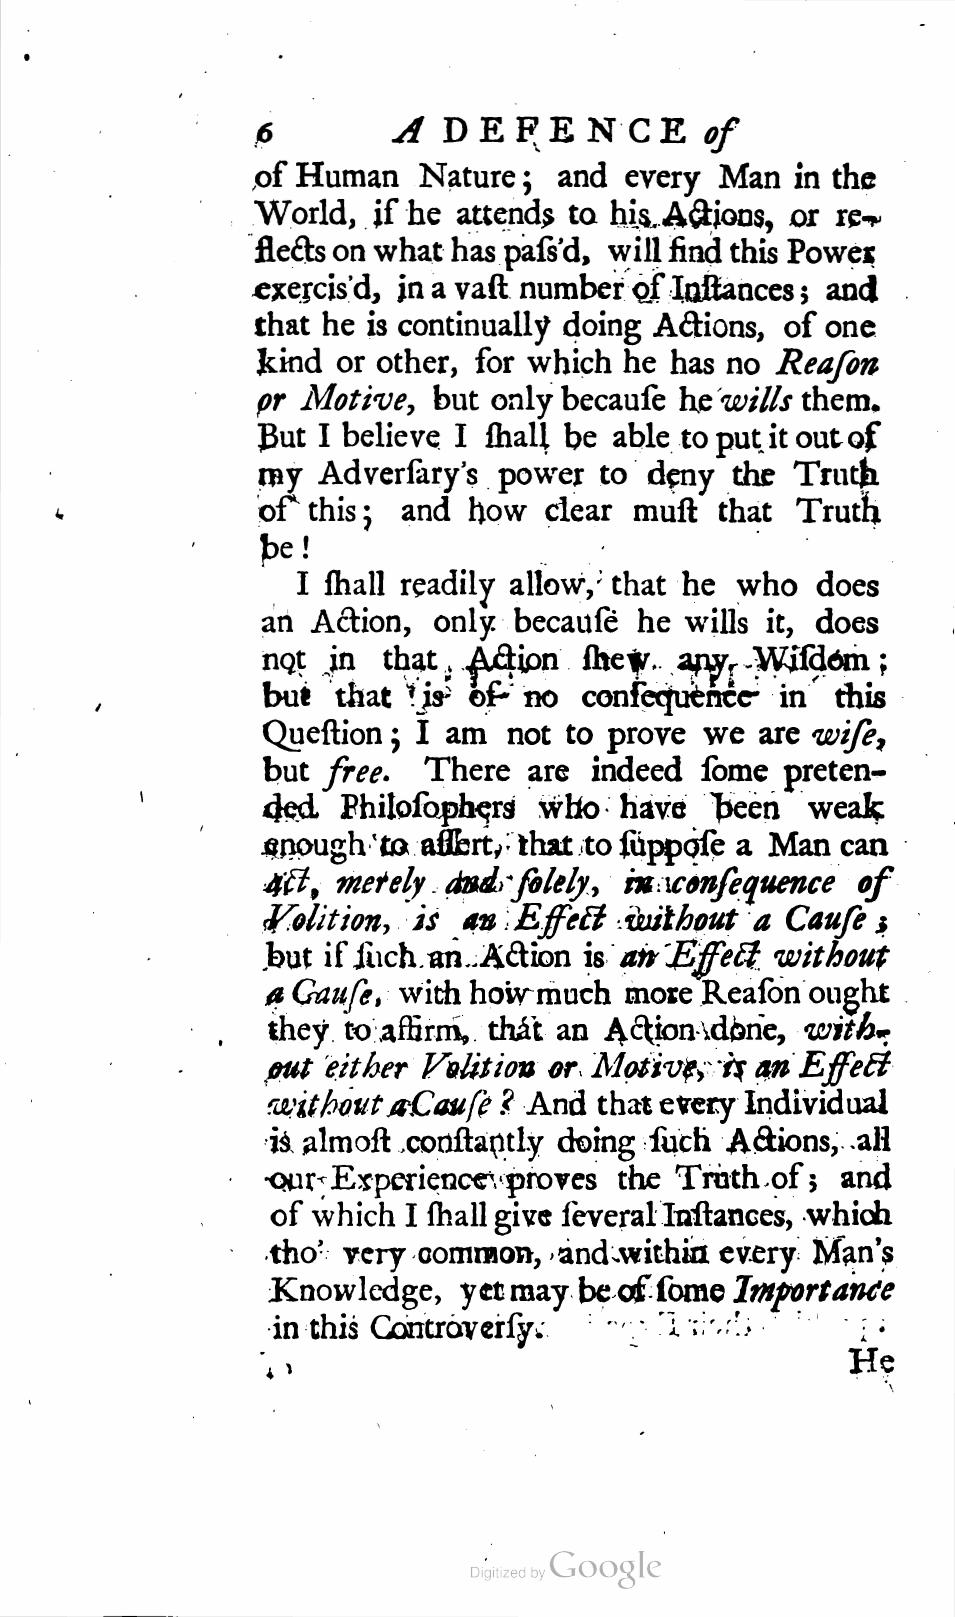bottom_p: (252, 156, 882, 562)
catchword: (844, 1342, 898, 1378)
full_p: (258, 566, 898, 1347)
header: (390, 112, 744, 152)
page_num: (252, 116, 276, 144)
